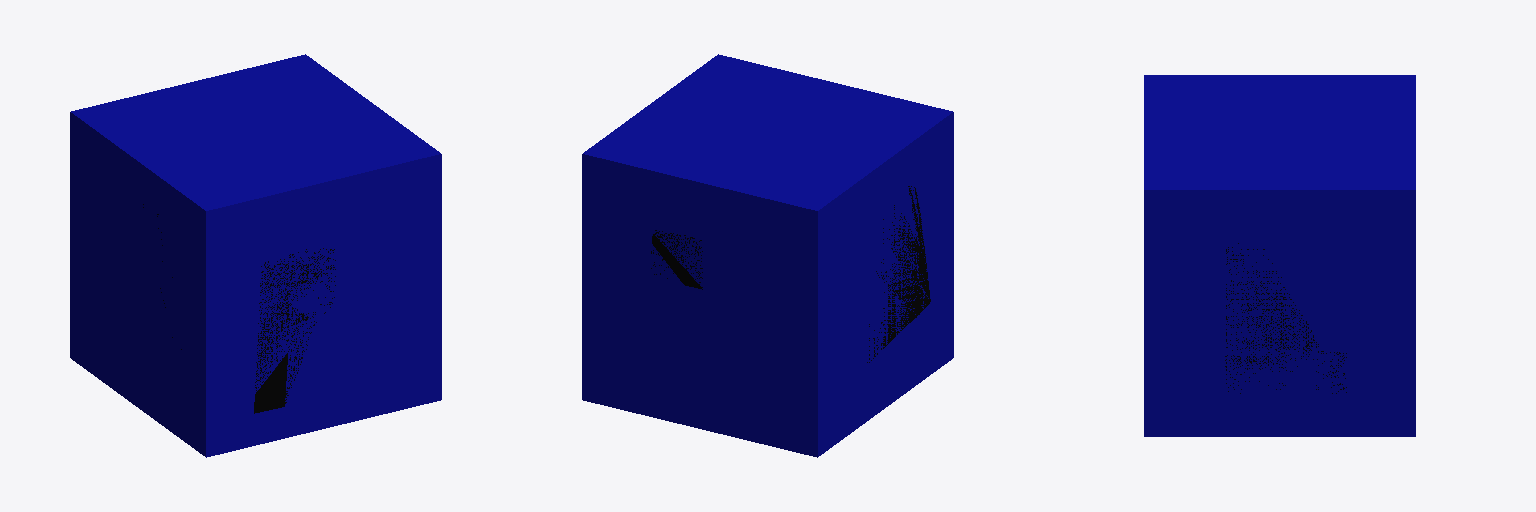
File: npc_obj.obj
3 renders of one model, left to right at view 1: azimuth 30°, elevation 25°; view 2: azimuth 150°, elevation 25°; view 3: azimuth 270°, elevation 25°, orthographic.
Parts seen in each view (by area): view 1: Cube_Cube.001; view 2: Cube_Cube.001; view 3: Cube_Cube.001.
Part boxes in pixels (x1,y1,x2,y2): Cube_Cube.001: (70, 54, 441, 457); Cube_Cube.001: (582, 54, 953, 457); Cube_Cube.001: (1144, 75, 1415, 436).
Bounding box in the file's own units: 2 × 2 × 2.